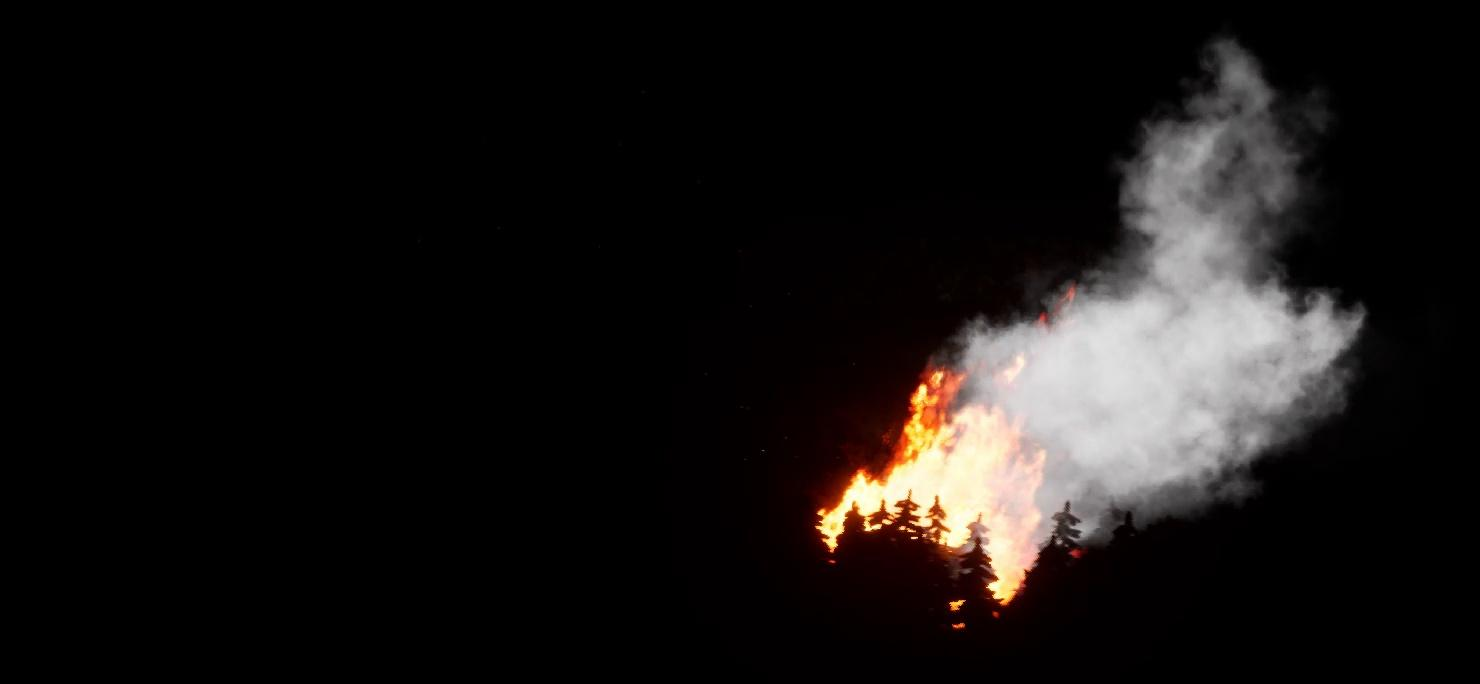fire: (821, 340, 1049, 611)
smoke: (964, 37, 1364, 532)
